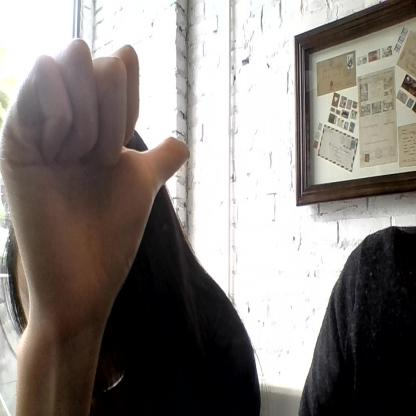left: (3, 40, 192, 282)
